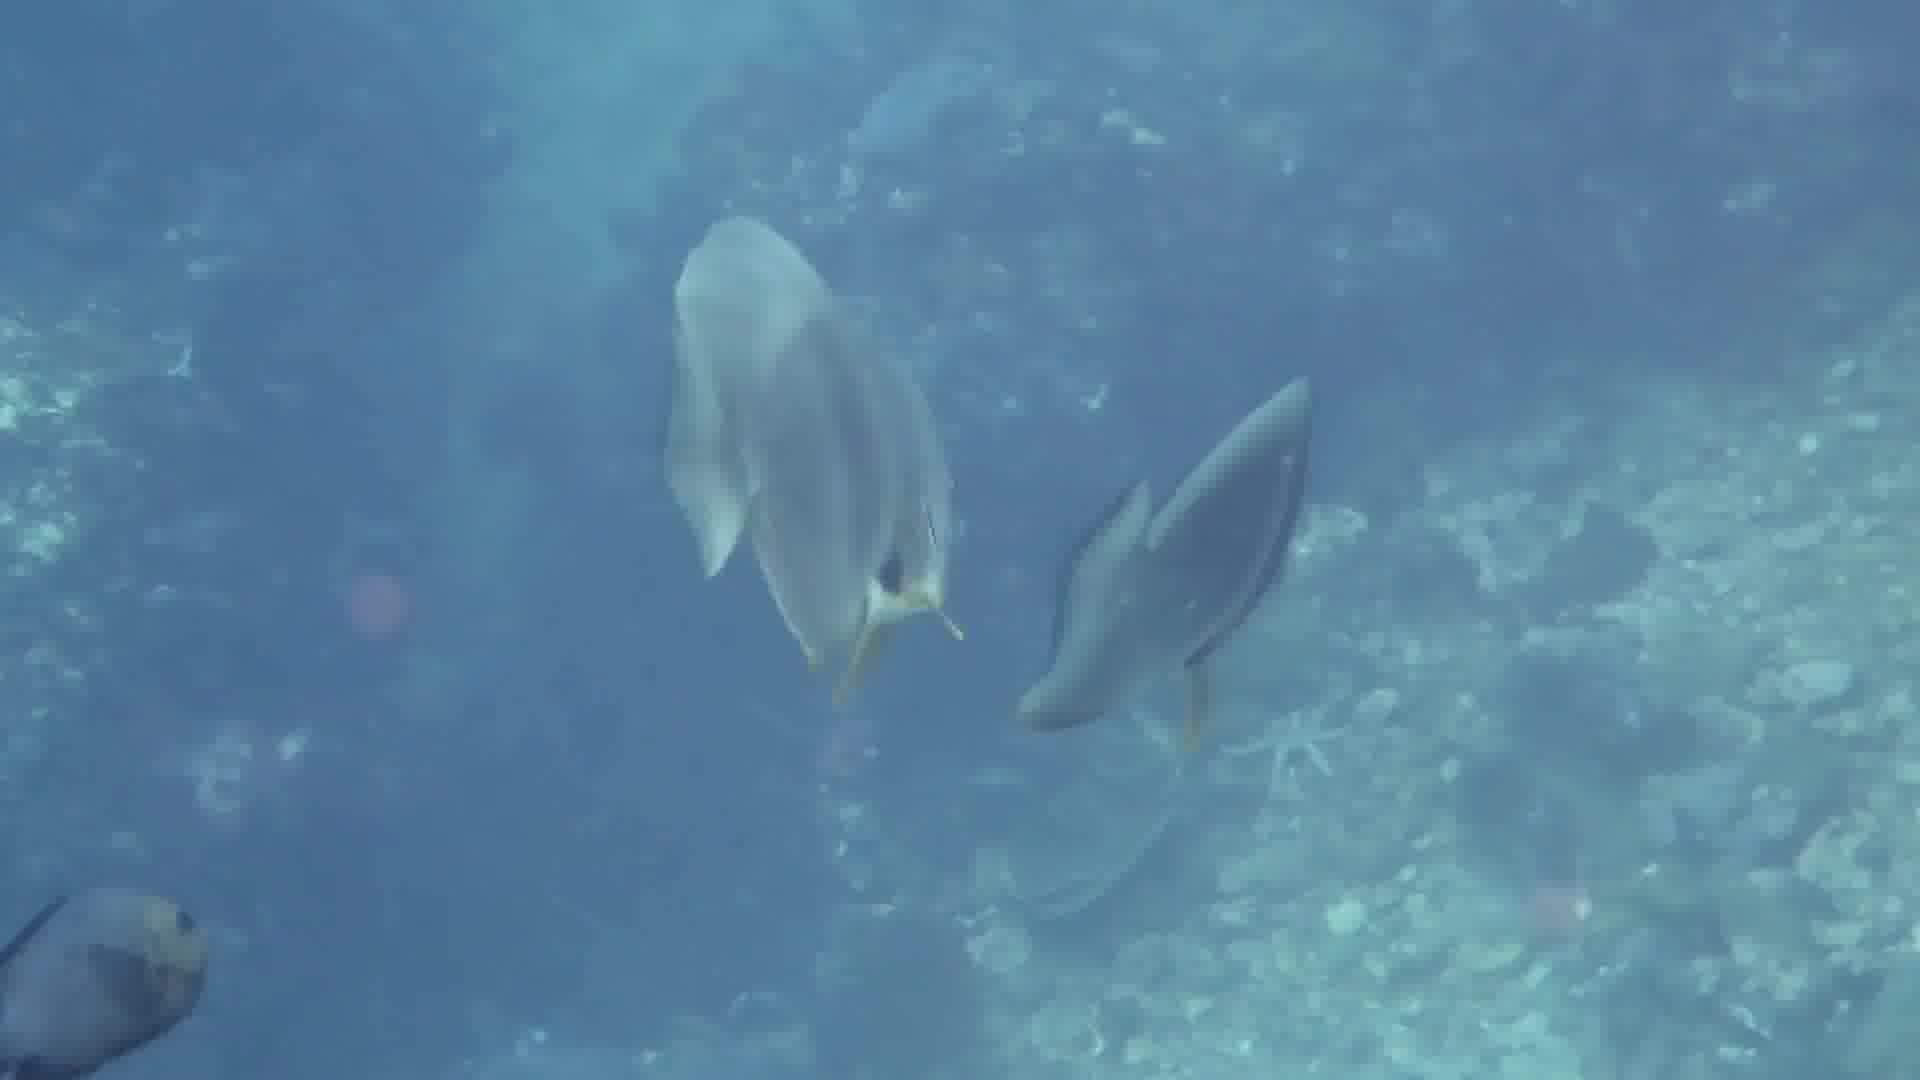Platax teira: (535, 173, 982, 736)
